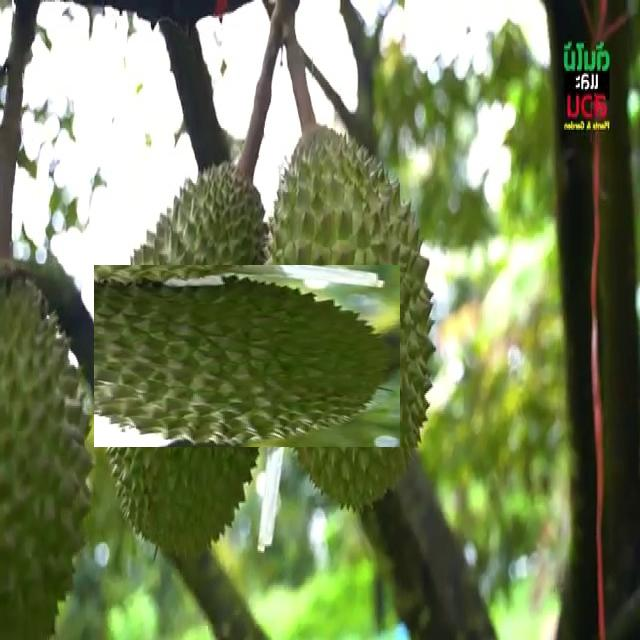durian: (38, 205, 340, 508), (260, 121, 438, 516), (1, 264, 94, 638)
